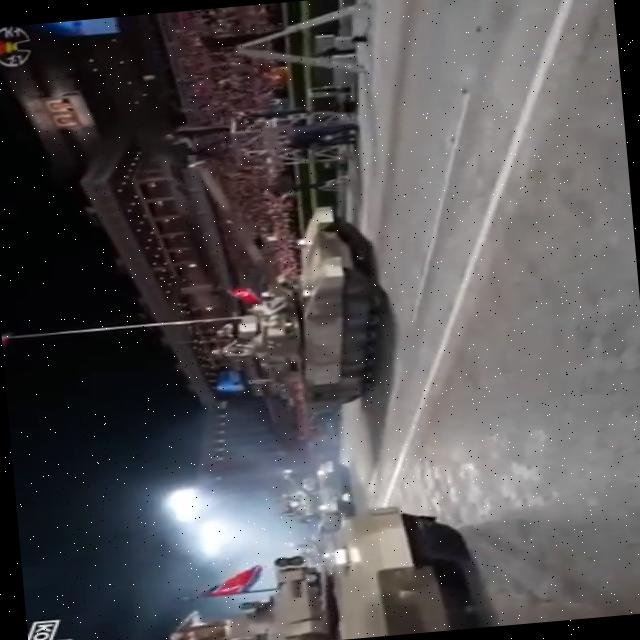north tank: (162, 198, 424, 438), (188, 488, 516, 640)
